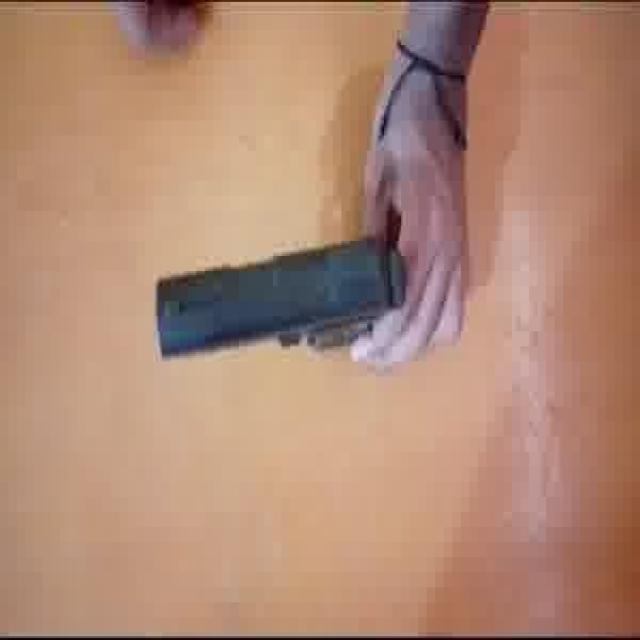weapon: (154, 212, 406, 364)
